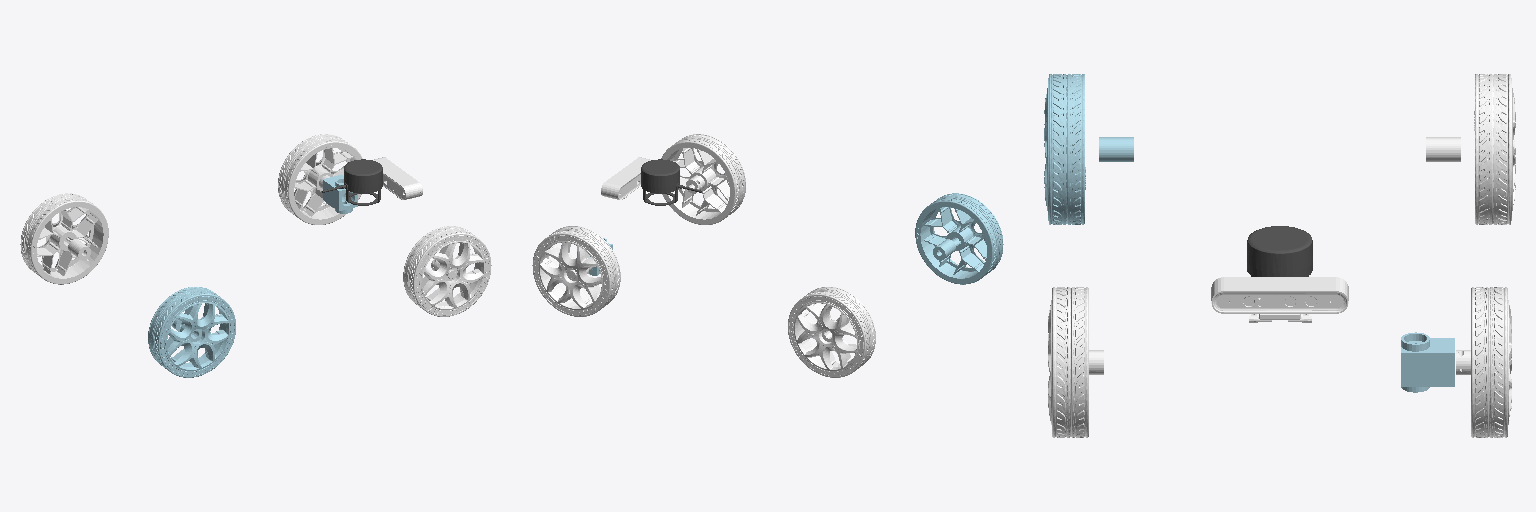
URDF robot description (top_akm_bs_robot):
<?xml version="1.0" encoding="utf-8"?>
<!-- This URDF was automatically created by SolidWorks to URDF Exporter! Originally created by [author] ([email redacted]) 
     Commit Version: 1.6.0-4-g7f85cfe  Build Version: 1.6.7995.38578
     For more information, please see http://wiki.ros.org/sw_urdf_exporter -->
<robot
  name="top_akm_bs_robot">
  <link
    name="base_link">
    <inertial>
      <origin
        xyz="-0.0627224623750732 0.00156829198504152 0.0439219098701147"
        rpy="0 0 0" />
      <mass
        value="5.46103195024466" />
      <inertia
        ixx="0.0341508088531725"
        ixy="-5.47558607514105E-06"
        ixz="5.12081376811511E-07"
        iyy="0.077385076761577"
        iyz="-1.61063629136711E-06"
        izz="0.109715050399458" />
    </inertial>
    <visual>
      <origin
        xyz="0 0 0"
        rpy="0 0 0" />
      <geometry>
        <mesh
          filename="package://wheeltec_robot_urdf/meshes/top_akm_bs_robot_meshes/base_link.STL" />
      </geometry>
      <material
        name="">
        <color
          rgba="0.741176470588235 0.901960784313726 0.956862745098039 1" />
      </material>
    </visual>
    <collision>
      <origin
        xyz="0 0 0"
        rpy="0 0 0" />
      <geometry>
        <mesh
          filename="package://wheeltec_robot_urdf/meshes/top_akm_bs_robot_meshes/base_link.STL" />
      </geometry>
    </collision>
  </link>
  <link
    name="lb_wheel_link">
    <inertial>
      <origin
        xyz="8.36835138722652E-07 -0.00342999982378706 -2.96872888082278E-06"
        rpy="0 0 0" />
      <mass
        value="0.456418795825616" />
      <inertia
        ixx="0.00129841436076177"
        ixy="-6.01131370351809E-08"
        ixz="2.43007715342763E-08"
        iyy="0.00244027942859642"
        iyz="-2.81376711468704E-09"
        izz="0.00129845523647505" />
    </inertial>
    <visual>
      <origin
        xyz="0 0 0"
        rpy="0 0 0" />
      <geometry>
        <mesh
          filename="package://wheeltec_robot_urdf/meshes/top_akm_bs_robot_meshes/lb_wheel_link.STL" />
      </geometry>
      <material
        name="">
        <color
          rgba="1 1 1 1" />
      </material>
    </visual>
    <collision>
      <origin
        xyz="0 0 0"
        rpy="0 0 0" />
      <geometry>
        <mesh
          filename="package://wheeltec_robot_urdf/meshes/top_akm_bs_robot_meshes/lb_wheel_link.STL" />
      </geometry>
    </collision>
  </link>
  <joint
    name="lb_wheel_joint"
    type="continuous">
    <origin
      xyz="-0.304491119929346 0.259191299292908 0.0449989999999978"
      rpy="0 0 0" />
    <parent
      link="base_link" />
    <child
      link="lb_wheel_link" />
    <axis
      xyz="0 -1 0" />
  </joint>
  <link
    name="rb_wheel_link">
    <inertial>
      <origin
        xyz="-8.36838943977375E-07 0.00342999982337544 -2.96871938666038E-06"
        rpy="0 0 0" />
      <mass
        value="0.456418795841581" />
      <inertia
        ixx="0.00129841436062444"
        ixy="-6.01131537627299E-08"
        ixz="-2.43007651731468E-08"
        iyy="0.0024402794284114"
        iyz="2.81380789358764E-09"
        izz="0.00129845523643883" />
    </inertial>
    <visual>
      <origin
        xyz="0 0 0"
        rpy="0 0 0" />
      <geometry>
        <mesh
          filename="package://wheeltec_robot_urdf/meshes/top_akm_bs_robot_meshes/rb_wheel_link.STL" />
      </geometry>
      <material
        name="">
        <color
          rgba="0.741176470588235 0.901960784313726 0.956862745098039 1" />
      </material>
    </visual>
    <collision>
      <origin
        xyz="0 0 0"
        rpy="0 0 0" />
      <geometry>
        <mesh
          filename="package://wheeltec_robot_urdf/meshes/top_akm_bs_robot_meshes/rb_wheel_link.STL" />
      </geometry>
    </collision>
  </link>
  <joint
    name="rb_wheel_joint"
    type="continuous">
    <origin
      xyz="-0.304463119929348 -0.259522700707092 0.0449989999999978"
      rpy="0 0 0" />
    <parent
      link="base_link" />
    <child
      link="rb_wheel_link" />
    <axis
      xyz="0 1 0" />
  </joint>
  <link
    name="laser_link">
    <inertial>
      <origin
        xyz="0.00196458631178764 -3.57895547477599E-06 -0.000201831632454685"
        rpy="0 0 0" />
      <mass
        value="0.0477519163736196" />
      <inertia
        ixx="3.38461999753332E-05"
        ixy="-2.19897275826209E-09"
        ixz="1.07118468728171E-06"
        iyy="3.94150415872122E-05"
        iyz="6.83977518785031E-10"
        izz="5.60787042116227E-05" />
    </inertial>
    <visual>
      <origin
        xyz="0 0 0"
        rpy="0 0 0" />
      <geometry>
        <mesh
          filename="package://wheeltec_robot_urdf/meshes/top_akm_bs_robot_meshes/laser.STL" />
      </geometry>
      <material
        name="">
        <color
          rgba="0.376470588235294 0.376470588235294 0.376470588235294 1" />
      </material>
    </visual>
    <collision>
      <origin
        xyz="0 0 0"
        rpy="0 0 0" />
      <geometry>
        <mesh
          filename="package://wheeltec_robot_urdf/meshes/top_akm_bs_robot_meshes/laser.STL" />
      </geometry>
    </collision>
  </link>
  <joint
    name="laser_joint"
    type="fixed">
    <origin
      xyz="0.239792880070651 -0.000165700707091571 0.153024183741431"
      rpy="0 0 3.14159265358979" />
    <parent
      link="base_link" />
    <child
      link="laser_link" />
    <axis
      xyz="0 0 0" />
  </joint>
  <link
    name="camera_link">
    <inertial>
      <origin
        xyz="-1.60068326593432E-07 -3.49052168589943E-07 1.07621370815103E-07"
        rpy="0 0 0" />
      <mass
        value="0.0559842497043461" />
      <inertia
        ixx="0.000130810953974031"
        ixy="1.20254707530912E-07"
        ixz="1.62335436371515E-06"
        iyy="1.91148630453015E-05"
        iyz="-2.80018622215662E-08"
        izz="0.000131387463778885" />
    </inertial>
    <visual>
      <origin
        xyz="0 0 0"
        rpy="0 0 0" />
      <geometry>
        <mesh
          filename="package://wheeltec_robot_urdf/meshes/top_akm_bs_robot_meshes/camera_link.STL" />
      </geometry>
      <material
        name="">
        <color
          rgba="1 1 1 1" />
      </material>
    </visual>
    <collision>
      <origin
        xyz="0 0 0"
        rpy="0 0 0" />
      <geometry>
        <mesh
          filename="package://wheeltec_robot_urdf/meshes/top_akm_bs_robot_meshes/camera_link.STL" />
      </geometry>
    </collision>
  </link>
  <joint
    name="camera_joint"
    type="fixed">
    <origin
      xyz="0.312397880070653 -3.77007070938337E-05 0.134704"
      rpy="0 0 0" />
    <parent
      link="base_link" />
    <child
      link="camera_link" />
    <axis
      xyz="0 0 0" />
  </joint>
  <link
    name="controller_link">
    <inertial>
      <origin
        xyz="-0.0200133932689981 0.0406197869640426 0.00856001464882"
        rpy="0 0 0" />
      <mass
        value="0.00107921954114688" />
      <inertia
        ixx="2.26830021861907E-07"
        ixy="3.94092662514742E-09"
        ixz="-5.23015112125978E-10"
        iyy="1.16330109995669E-08"
        iyz="3.69212982719966E-10"
        izz="2.25657044103408E-07" />
    </inertial>
    <visual>
      <origin
        xyz="0 0 0"
        rpy="0 0 0" />
      <geometry>
        <mesh
          filename="package://wheeltec_robot_urdf/meshes/top_akm_bs_robot_meshes/controller_link.STL" />
      </geometry>
      <material
        name="">
        <color
          rgba="0.741176470588235 0.901960784313726 0.956862745098039 1" />
      </material>
    </visual>
    <collision>
      <origin
        xyz="0 0 0"
        rpy="0 0 0" />
      <geometry>
        <mesh
          filename="package://wheeltec_robot_urdf/meshes/top_akm_bs_robot_meshes/controller_link.STL" />
      </geometry>
    </collision>
  </link>
  <joint
    name="controller_joint"
    type="fixed">
    <origin
      xyz="0.125923947385507 -0.131609076380086 0.00600000000000006"
      rpy="0 0 0" />
    <parent
      link="base_link" />
    <child
      link="controller_link" />
    <axis
      xyz="0 0 0" />
  </joint>
  <link
    name="left1_link">
    <inertial>
      <origin
        xyz="5.51544276916616E-09 0.0147356305236095 -0.031506961905034"
        rpy="0 0 0" />
      <mass
        value="0.0871302221739116" />
      <inertia
        ixx="5.3517572766116E-05"
        ixy="5.40203853372506E-12"
        ixz="-6.58727402696931E-12"
        iyy="4.29068264448891E-05"
        iyz="-2.35715444494149E-07"
        izz="5.01875161028647E-05" />
    </inertial>
    <visual>
      <origin
        xyz="0 0 0"
        rpy="0 0 0" />
      <geometry>
        <mesh
          filename="package://wheeltec_robot_urdf/meshes/top_akm_bs_robot_meshes/left1_link.STL" />
      </geometry>
      <material
        name="">
        <color
          rgba="0.741176470588235 0.901960784313726 0.956862745098039 1" />
      </material>
    </visual>
    <collision>
      <origin
        xyz="0 0 0"
        rpy="0 0 0" />
      <geometry>
        <mesh
          filename="package://wheeltec_robot_urdf/meshes/top_akm_bs_robot_meshes/left1_link.STL" />
      </geometry>
    </collision>
  </link>
  <joint
    name="left1_joint"
    type="revolute">
    <origin
      xyz="0.289297880070653 0.162834299292906 0.0711999999999999"
      rpy="0 0 0" />
    <parent
      link="base_link" />
    <child
      link="left1_link" />
    <axis
      xyz="0 0 -1" />
    <limit
      lower="-0.52"
      upper="0.52"
      effort="0"
      velocity="0" />
  </joint>
  <link
    name="lf_wheel_link">
    <inertial>
      <origin
        xyz="-1.08112324928022E-05 -0.000997354446081733 -3.40928467553597E-06"
        rpy="0 0 0" />
      <mass
        value="0.453923897773642" />
      <inertia
        ixx="0.00129994212021918"
        ixy="-5.70884988318329E-08"
        ixz="-2.06931639169823E-08"
        iyy="0.00243922513867318"
        iyz="-1.27200689062723E-09"
        izz="0.00129993538678745" />
    </inertial>
    <visual>
      <origin
        xyz="0 0 0"
        rpy="0 0 0" />
      <geometry>
        <mesh
          filename="package://wheeltec_robot_urdf/meshes/top_akm_bs_robot_meshes/lf_wheel_link.STL" />
      </geometry>
      <material
        name="">
        <color
          rgba="1 1 1 1" />
      </material>
    </visual>
    <collision>
      <origin
        xyz="0 0 0"
        rpy="0 0 0" />
      <geometry>
        <mesh
          filename="package://wheeltec_robot_urdf/meshes/top_akm_bs_robot_meshes/lf_wheel_link.STL" />
      </geometry>
    </collision>
  </link>
  <joint
    name="lf_wheel_joint"
    type="continuous">
    <origin
      xyz="0 0.091957 -0.031686"
      rpy="0 0 0" />
    <parent
      link="left1_link" />
    <child
      link="lf_wheel_link" />
    <axis
      xyz="0 -1 0" />
  </joint>
  <link
    name="right1_link">
    <inertial>
      <origin
        xyz="1.59206681482615E-06 -0.0147356304375998 -0.0315069619050355"
        rpy="0 0 0" />
      <mass
        value="0.0871302221738955" />
      <inertia
        ixx="5.35175726402328E-05"
        ixy="1.15577968572864E-09"
        ixz="-1.89681195563151E-11"
        iyy="4.2906826570777E-05"
        iyz="2.35715443820803E-07"
        izz="5.01875161028745E-05" />
    </inertial>
    <visual>
      <origin
        xyz="0 0 0"
        rpy="0 0 0" />
      <geometry>
        <mesh
          filename="package://wheeltec_robot_urdf/meshes/top_akm_bs_robot_meshes/right1_link.STL" />
      </geometry>
      <material
        name="">
        <color
          rgba="0.741176470588235 0.901960784313726 0.956862745098039 1" />
      </material>
    </visual>
    <collision>
      <origin
        xyz="0 0 0"
        rpy="0 0 0" />
      <geometry>
        <mesh
          filename="package://wheeltec_robot_urdf/meshes/top_akm_bs_robot_meshes/right1_link.STL" />
      </geometry>
    </collision>
  </link>
  <joint
    name="right1_joint"
    type="revolute">
    <origin
      xyz="0.289297880070607 -0.163165700707053 0.0711999999999999"
      rpy="0 0 0" />
    <parent
      link="base_link" />
    <child
      link="right1_link" />
    <axis
      xyz="0 0 -1" />
    <limit
      lower="-0.52"
      upper="0.52"
      effort="0"
      velocity="0" />
  </joint>
  <link
    name="rf_wheel_link">
    <inertial>
      <origin
        xyz="9.94850877467091E-06 0.000997357189352788 4.02425503458204E-06"
        rpy="0 0 0" />
      <mass
        value="0.453923899457485" />
      <inertia
        ixx="0.00129992115967317"
        ixy="-2.6222791336253E-07"
        ixz="-3.68622232340792E-08"
        iyy="0.00243922509241007"
        iyz="2.59712221026958E-08"
        izz="0.00129995638894646" />
    </inertial>
    <visual>
      <origin
        xyz="0 0 0"
        rpy="0 0 0" />
      <geometry>
        <mesh
          filename="package://wheeltec_robot_urdf/meshes/top_akm_bs_robot_meshes/rf_wheel_link.STL" />
      </geometry>
      <material
        name="">
        <color
          rgba="1 1 1 1" />
      </material>
    </visual>
    <collision>
      <origin
        xyz="0 0 0"
        rpy="0 0 0" />
      <geometry>
        <mesh
          filename="package://wheeltec_robot_urdf/meshes/top_akm_bs_robot_meshes/rf_wheel_link.STL" />
      </geometry>
    </collision>
  </link>
  <joint
    name="rf_wheel_joint"
    type="continuous">
    <origin
      xyz="2.4000000044988E-05 -0.0919570000000404 -0.0317010000000001"
      rpy="0 0 0" />
    <parent
      link="right1_link" />
    <child
      link="rf_wheel_link" />
    <axis
      xyz="-0.000108416280945453 0.999999994122955 0" />
  </joint>
</robot>

--- Render facts (derived) ---
The picture shows the robot from 3 angles, left to right: view 1: azimuth 30°, elevation 25°; view 2: azimuth 150°, elevation 25°; view 3: azimuth 270°, elevation 25°; orthographic projection.
Robot: top_akm_bs_robot — 10 links, 9 joints (2 revolute, 4 continuous, 3 fixed); root link base_link; default pose: all joints at 0.
Links seen in each view (by area): view 1: lb_wheel_link, rb_wheel_link, rf_wheel_link, lf_wheel_link, laser_link, camera_link, left1_link; view 2: lf_wheel_link, rb_wheel_link, lb_wheel_link, rf_wheel_link, laser_link, camera_link; view 3: lb_wheel_link, rb_wheel_link, lf_wheel_link, rf_wheel_link, camera_link, laser_link, left1_link.
Link boxes in pixels (x1=…): lb_wheel_link: x1=20, y1=193, x2=108, y2=284; rb_wheel_link: x1=148, y1=287, x2=235, y2=377; rf_wheel_link: x1=403, y1=226, x2=491, y2=316; lf_wheel_link: x1=278, y1=134, x2=362, y2=224; laser_link: x1=322, y1=159, x2=382, y2=205; camera_link: x1=373, y1=157, x2=422, y2=199; left1_link: x1=323, y1=175, x2=357, y2=213; lf_wheel_link: x1=532, y1=226, x2=620, y2=316; rb_wheel_link: x1=915, y1=193, x2=1003, y2=284; lb_wheel_link: x1=788, y1=287, x2=875, y2=377; rf_wheel_link: x1=661, y1=134, x2=745, y2=224; laser_link: x1=641, y1=159, x2=701, y2=205; camera_link: x1=601, y1=157, x2=650, y2=199; lb_wheel_link: x1=1426, y1=74, x2=1515, y2=224; rb_wheel_link: x1=1044, y1=74, x2=1133, y2=224; lf_wheel_link: x1=1456, y1=287, x2=1511, y2=437; rf_wheel_link: x1=1048, y1=287, x2=1103, y2=437; camera_link: x1=1211, y1=277, x2=1348, y2=322; laser_link: x1=1247, y1=226, x2=1312, y2=276; left1_link: x1=1401, y1=332, x2=1454, y2=392.
Bounding box of the posed robot: 0.7748 × 0.5657 × 0.2319 m (x, y, z).
Meshes: 10 distinct files referenced, 7 mesh visuals loaded (7 binary STL); not drawn: 3 (reference not matched to a file when rendering).